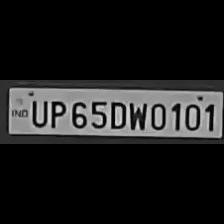0: (146, 100, 168, 130), (182, 100, 200, 130)
1: (166, 100, 182, 130), (202, 101, 218, 131)
5: (89, 98, 107, 128)
6: (66, 98, 88, 128)
D: (106, 98, 126, 128)
P: (46, 98, 66, 128)
U: (28, 98, 48, 127)
W: (128, 99, 146, 130)
